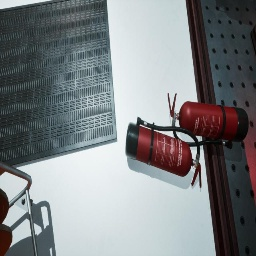FireExtinguisher ]: (125, 116, 202, 188), (168, 93, 249, 149), (194, 163, 197, 168), (175, 114, 178, 119)
